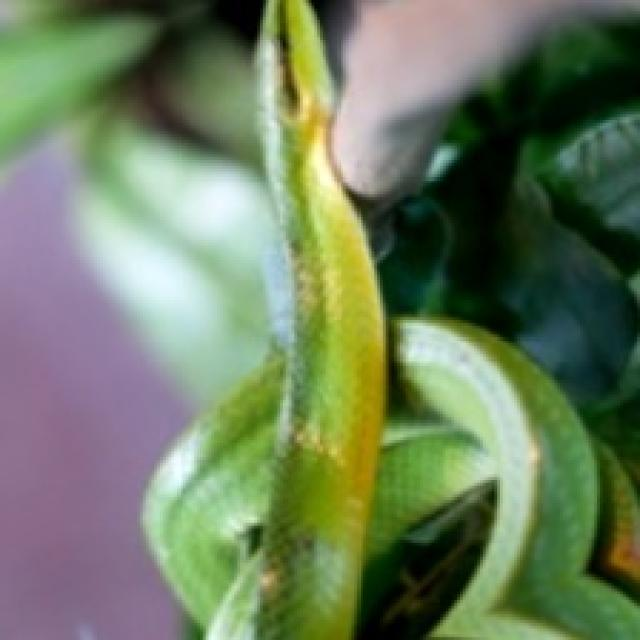red-tailed green ratsnake: (146, 0, 637, 637)
